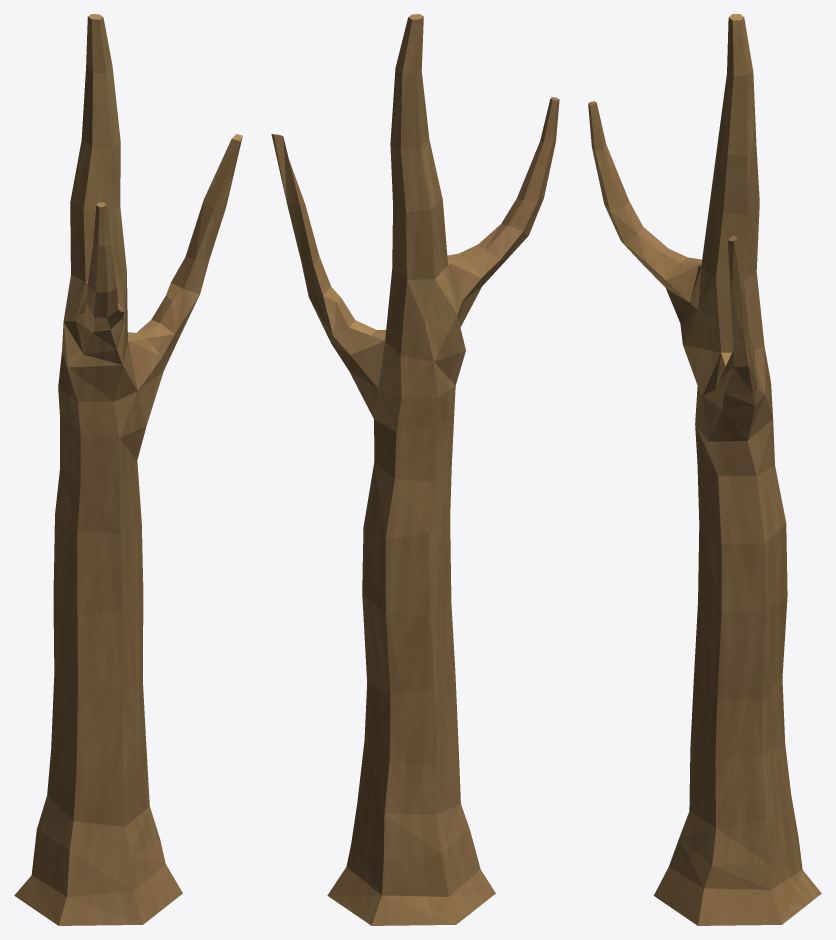
File: Pohon_3.obj
3 renders of one model, left to right at view 1: azimuth 30°, elevation 25°; view 2: azimuth 150°, elevation 25°; view 3: azimuth 270°, elevation 25°, orthographic.
Parts seen in each view (by area): view 1: Pohon_3; view 2: Pohon_3; view 3: Pohon_3.
Boxes of the visible parts, box(x1,y1,x2,y2) form: Pohon_3: box(14, 14, 242, 925); Pohon_3: box(271, 14, 559, 925); Pohon_3: box(588, 14, 821, 925).
Bounding box in the file's own units: 15.97 × 61.96 × 14.99.
Materials: 1 (1 with a texture image).
